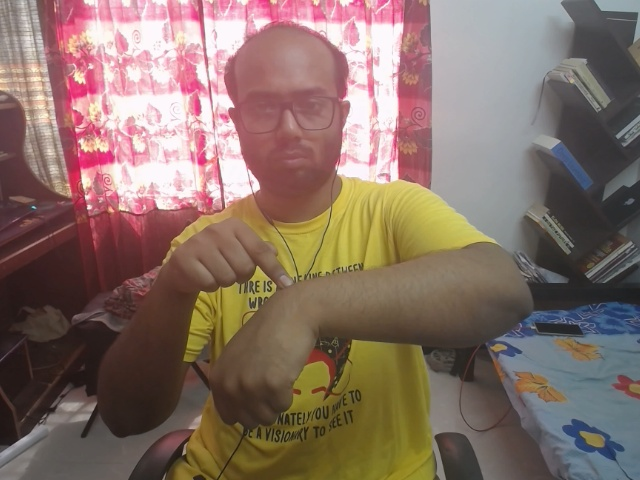time: (72, 205, 353, 438)
